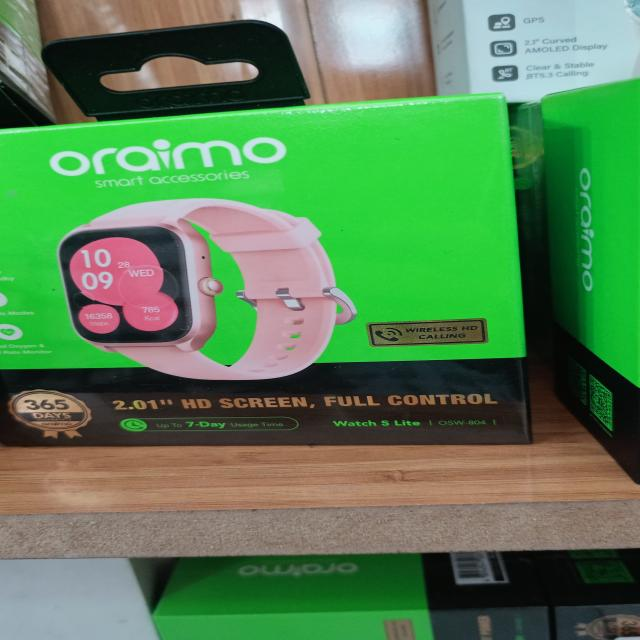Watch 5 Lite OSW-804: (329, 418, 502, 427)
